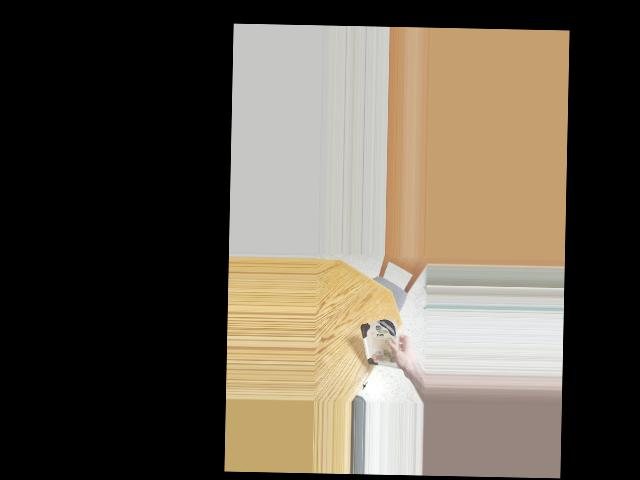cheese: (362, 316, 403, 376)
